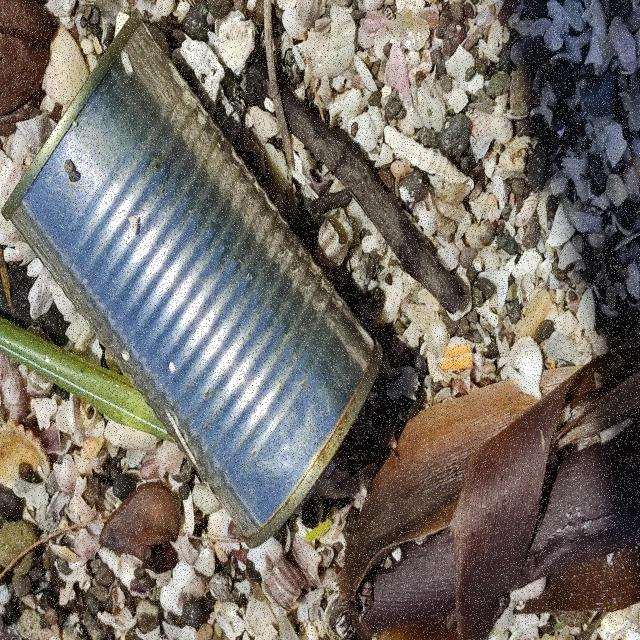metal_waste: (4, 9, 386, 541)
